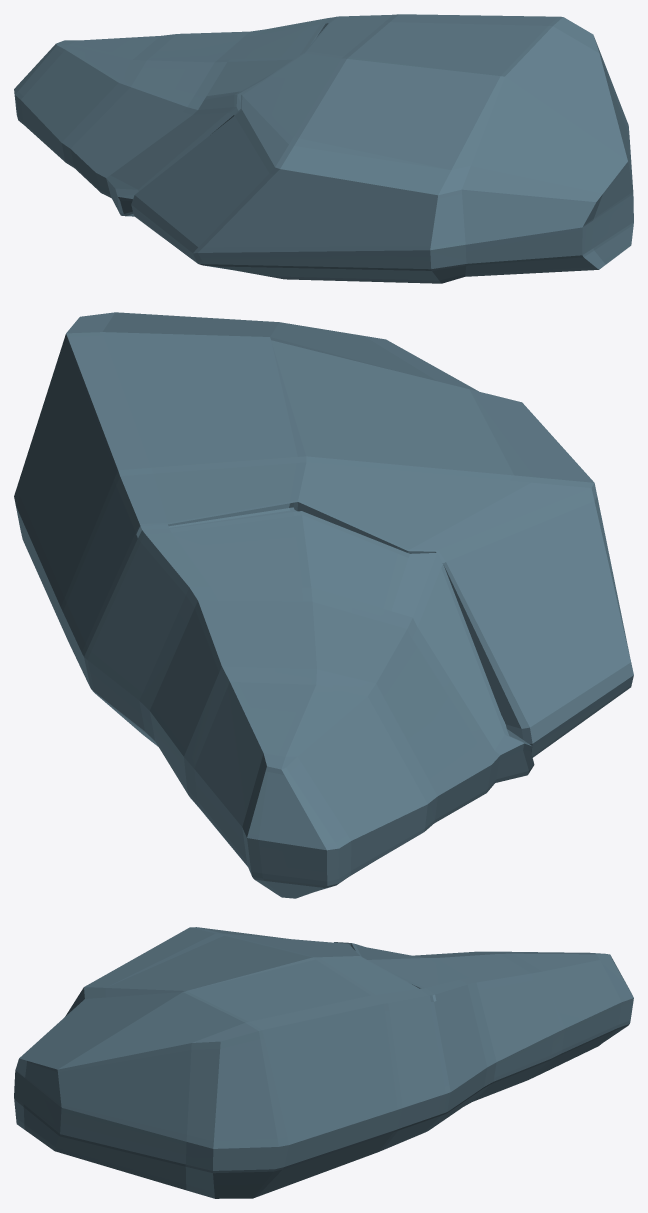
File: ROCKS_ROUND_B_UI.fbx
The picture shows the model from 3 angles, top to bottom: view 1: azimuth 30°, elevation 25°; view 2: azimuth 150°, elevation 25°; view 3: azimuth 270°, elevation 25°; orthographic projection. The views are drawn at different scales.
Visible parts, largest first — view 1: ROCKSROUNDB_UI; view 2: ROCKSROUNDB_UI; view 3: ROCKSROUNDB_UI.
Part boxes in pixels (x1=…): ROCKSROUNDB_UI: x1=14, y1=14, x2=633, y2=283; ROCKSROUNDB_UI: x1=14, y1=312, x2=633, y2=898; ROCKSROUNDB_UI: x1=14, y1=927, x2=633, y2=1198.
Bounding box in the file's own units: 3.96 × 1.54 × 5.21.
